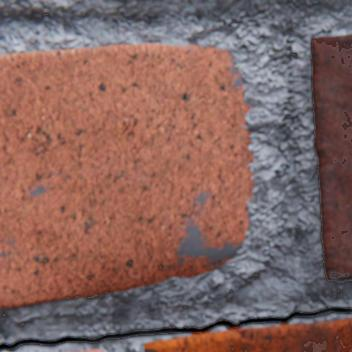brick: (0, 44, 254, 308), (311, 35, 351, 280), (145, 317, 351, 351), (73, 349, 103, 351)
crack: (0, 306, 351, 351)
